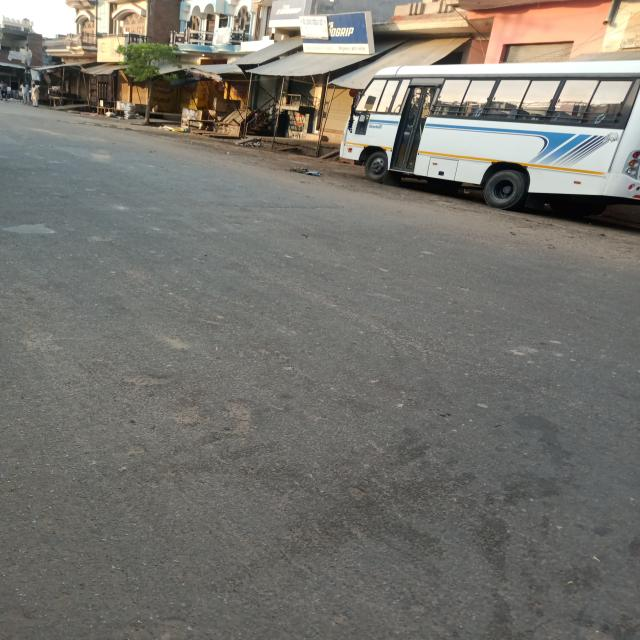Bus: (327, 62, 640, 212)
